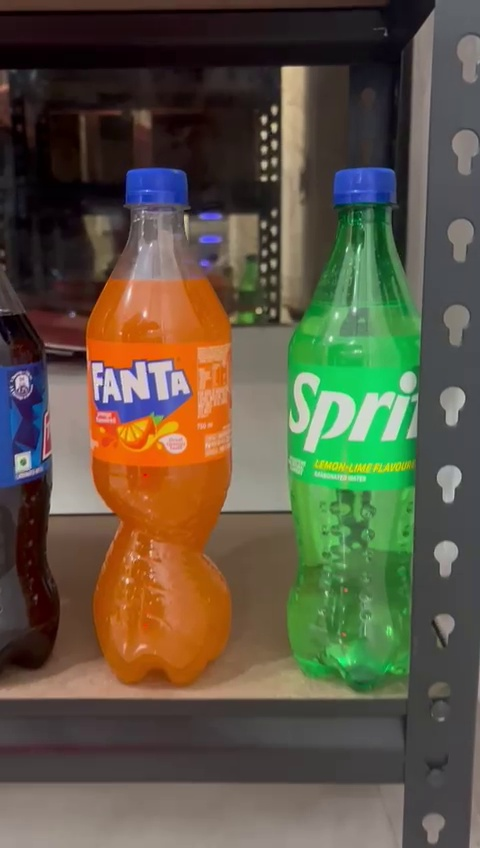Fanta: (79, 161, 251, 691)
Sprit: (280, 156, 422, 696)
